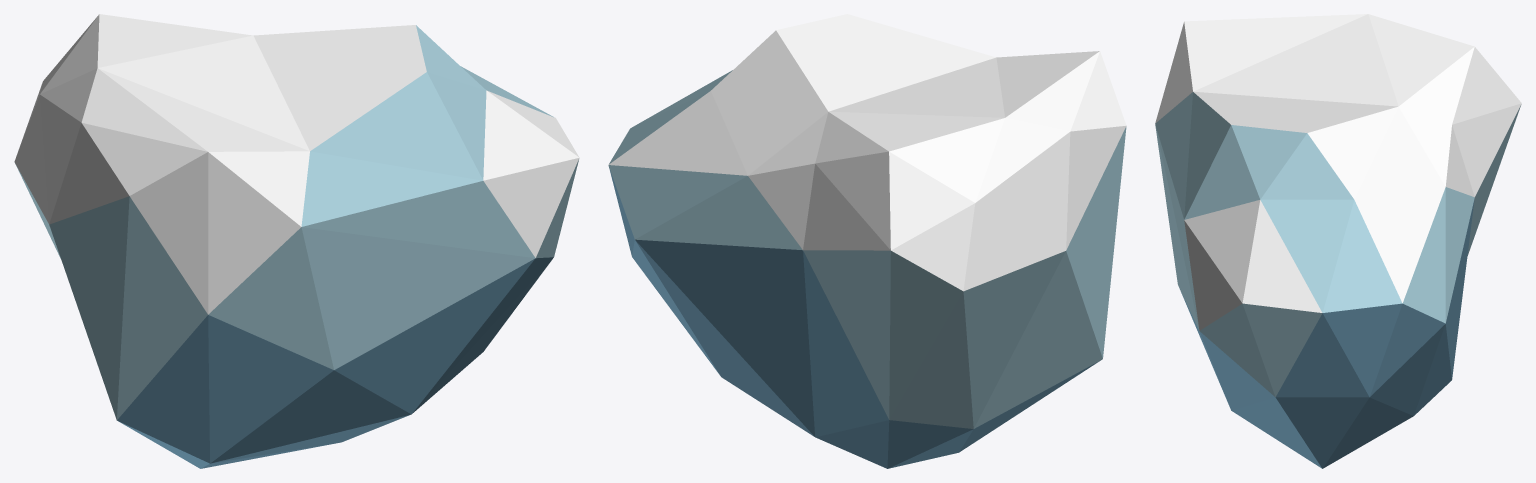
Rendered from terrainRockSmall1.fbx.
3 renders of one model, left to right at view 1: azimuth 30°, elevation 25°; view 2: azimuth 150°, elevation 25°; view 3: azimuth 270°, elevation 25°, orthographic. The views are drawn at different scales.
Parts seen in each view (by area): view 1: smallStone; view 2: smallStone; view 3: smallStone.
Boxes of the visible parts, x1,y1,x2,y2 form: smallStone: [14, 14, 579, 468]; smallStone: [608, 14, 1126, 468]; smallStone: [1155, 14, 1521, 468].
Bounding box in the file's own units: 200 × 159 × 151.
Materials: 1 (1 with a texture image).
